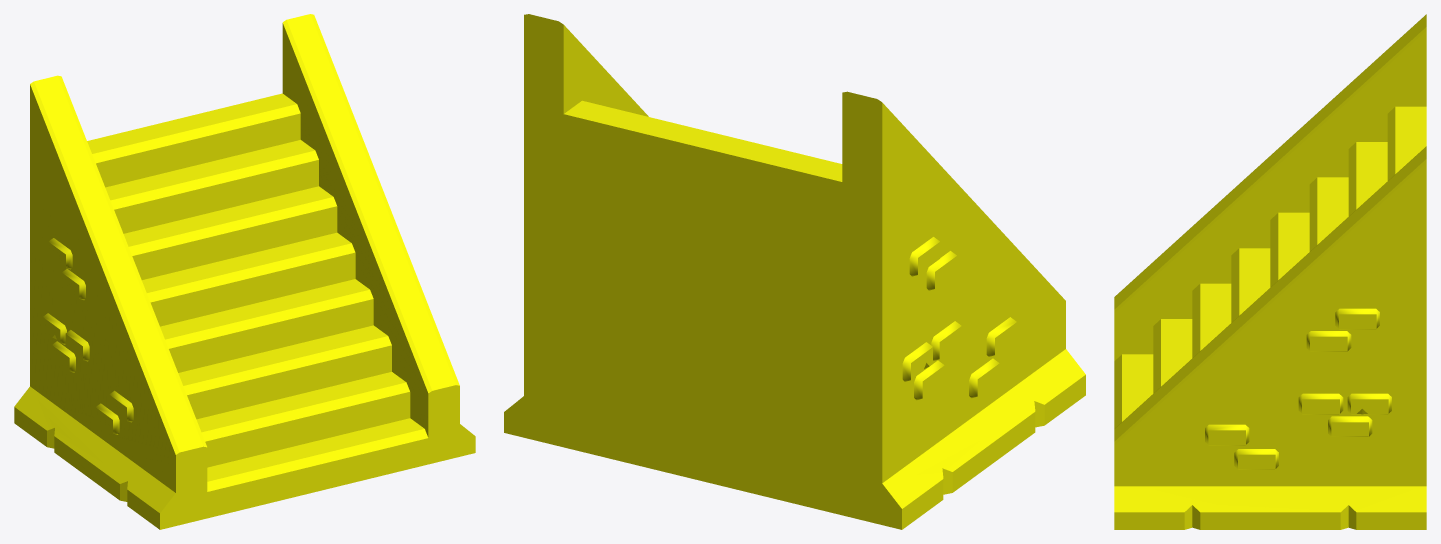
File: kaykit-dungeonremastered-stairs.glb
The picture shows the model from 3 angles, left to right: view 1: azimuth 30°, elevation 25°; view 2: azimuth 150°, elevation 25°; view 3: azimuth 270°, elevation 25°; orthographic projection. The views are drawn at different scales.
Parts seen in each view (by area): view 1: stairs; view 2: stairs; view 3: stairs.
Boxes of the visible parts, left/top/right/bottom form: stairs: left=14, top=14, right=475, bottom=529; stairs: left=504, top=14, right=1085, bottom=529; stairs: left=1114, top=14, right=1426, bottom=529.
Size of the model in its own units: 5 by 5.1 by 4.
